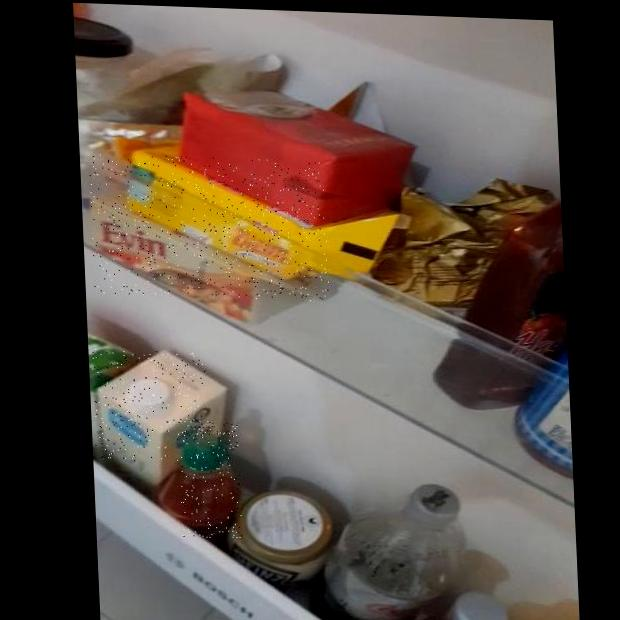butter: (89, 153, 330, 302)
milk: (91, 349, 209, 464)
sauce: (178, 420, 243, 539)
